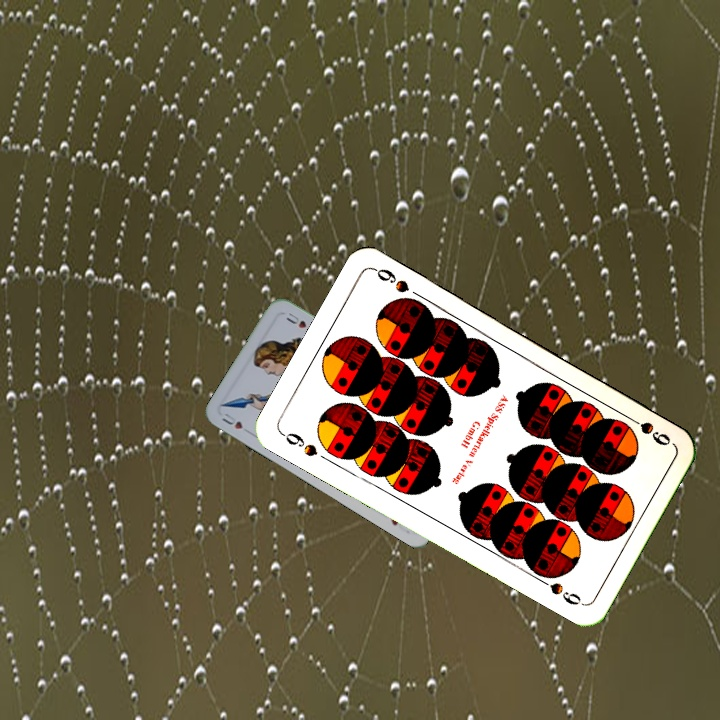HU: (217, 409, 254, 437)
S9: (620, 410, 674, 449), (277, 428, 320, 460)
